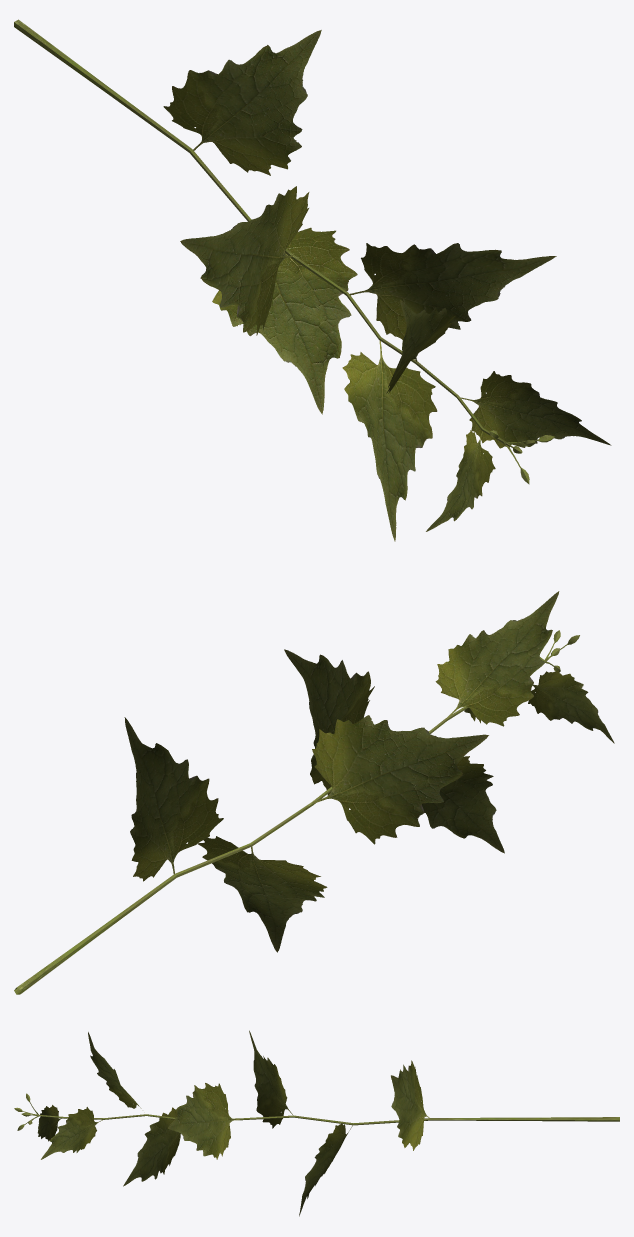
3 renders of one model, top to bottom at view 1: azimuth 30°, elevation 25°; view 2: azimuth 150°, elevation 25°; view 3: azimuth 270°, elevation 25°, orthographic. The views are drawn at different scales.
Visible parts, largest first — view 1: GC02_1; view 2: GC02_1; view 3: GC02_1.
Boxes of the visible parts, x1,y1,x2,y2 form: GC02_1: [14, 19, 611, 541]; GC02_1: [14, 591, 614, 994]; GC02_1: [14, 1030, 619, 1216].
Bounding box in the file's own units: 0.2357 × 0.2347 × 0.71.
Materials: 2 (2 with a texture image).
